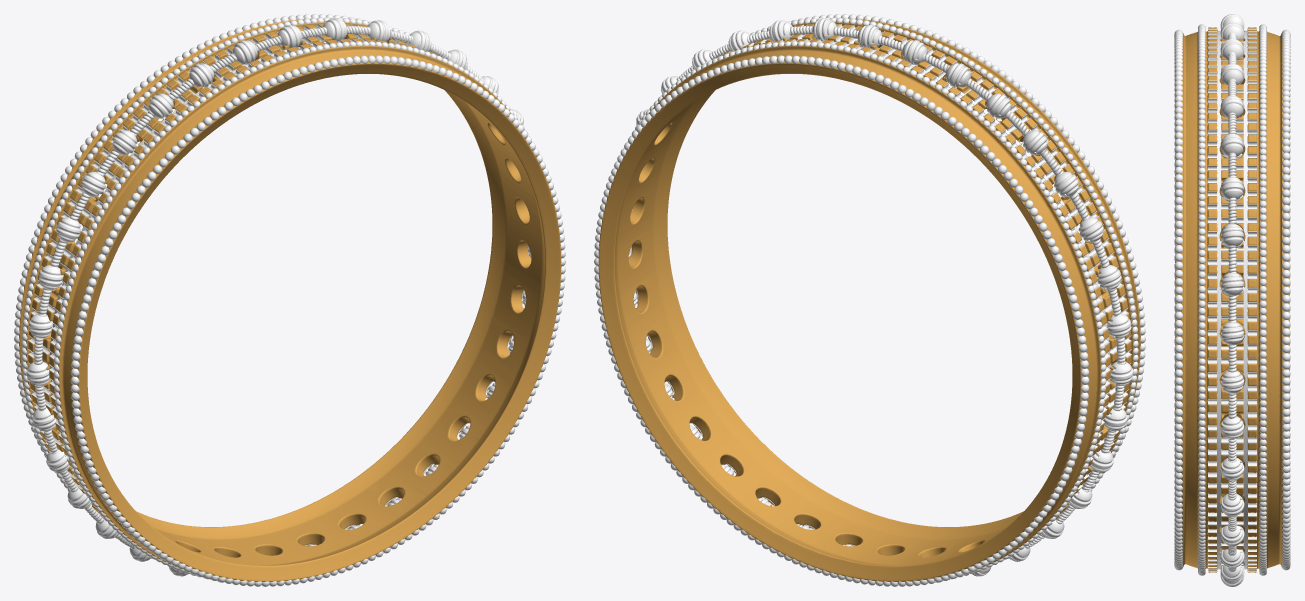
The picture shows the model from 3 angles, left to right: view 1: azimuth 30°, elevation 25°; view 2: azimuth 150°, elevation 25°; view 3: azimuth 270°, elevation 25°; orthographic projection. The views are drawn at different scales.
Visible parts, largest first — view 1: object_39.001, Bead On Surface.870, object_38.001, object_36.001; view 2: object_39.001, Bead On Surface.870, object_38.001, object_36.001; view 3: object_39.001, Bead On Surface.870, object_38.001, object_36.001.
Boxes of the visible parts, x1,y1,x2,y2 form: object_39.001: [19, 19, 561, 581]; Bead On Surface.870: [14, 14, 565, 586]; object_38.001: [28, 24, 529, 546]; object_36.001: [34, 26, 483, 560]; object_39.001: [598, 19, 1140, 581]; Bead On Surface.870: [594, 14, 1145, 586]; object_38.001: [631, 24, 1131, 545]; object_36.001: [661, 26, 1125, 560]; object_39.001: [1175, 27, 1289, 572]; Bead On Surface.870: [1174, 14, 1290, 586]; object_38.001: [1208, 27, 1256, 572]; object_36.001: [1228, 33, 1236, 571].
Bounding box in the file's own units: 0.0428 × 0.0428 × 0.00867.
